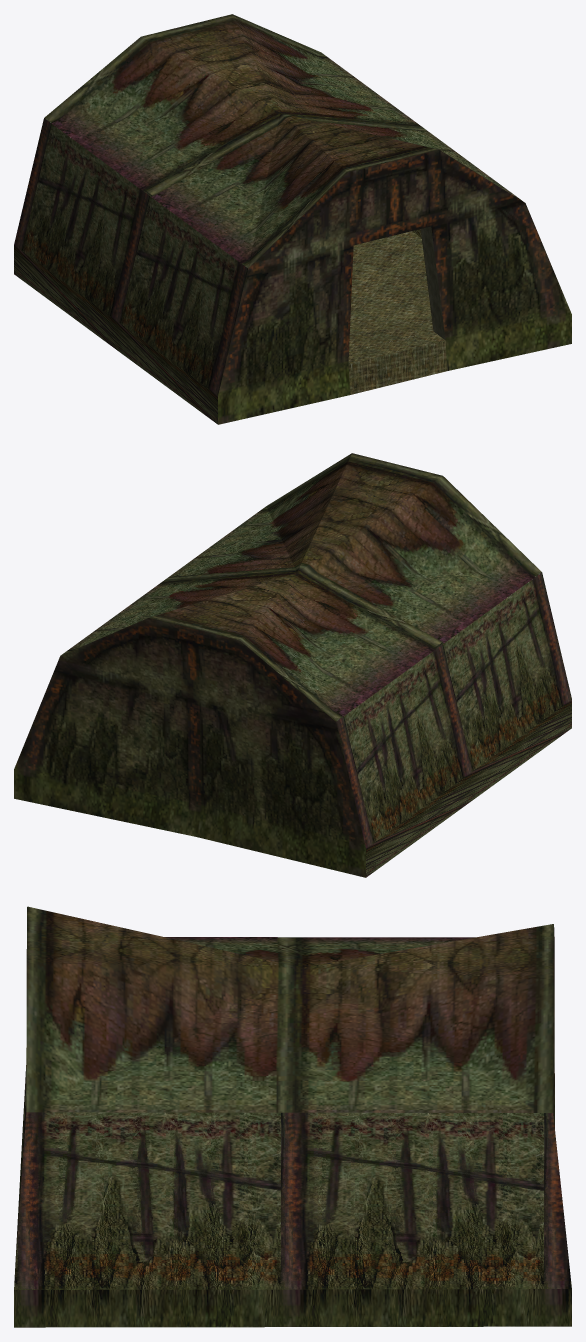
Rendered from schronienie14.glb.
The picture shows the model from 3 angles, top to bottom: view 1: azimuth 30°, elevation 25°; view 2: azimuth 150°, elevation 25°; view 3: azimuth 270°, elevation 25°; orthographic projection. The views are drawn at different scales.
Visible parts, largest first — view 1: zengin01; view 2: zengin01; view 3: zengin01.
Part boxes in pixels (x1,y1,x2,y2): zengin01: (14,14,571,424); zengin01: (14,453,571,877); zengin01: (14,906,571,1327).
Size of the model in its own units: 6.99 by 4.25 by 7.55.
Materials: 9 (9 with a texture image).
